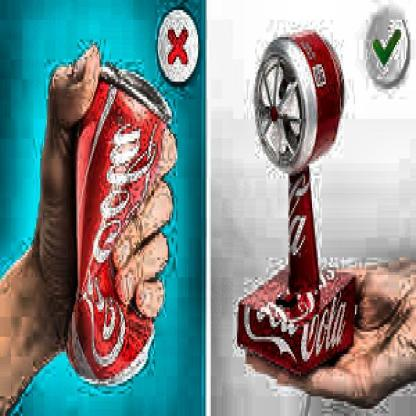Can: (60, 49, 174, 392)
